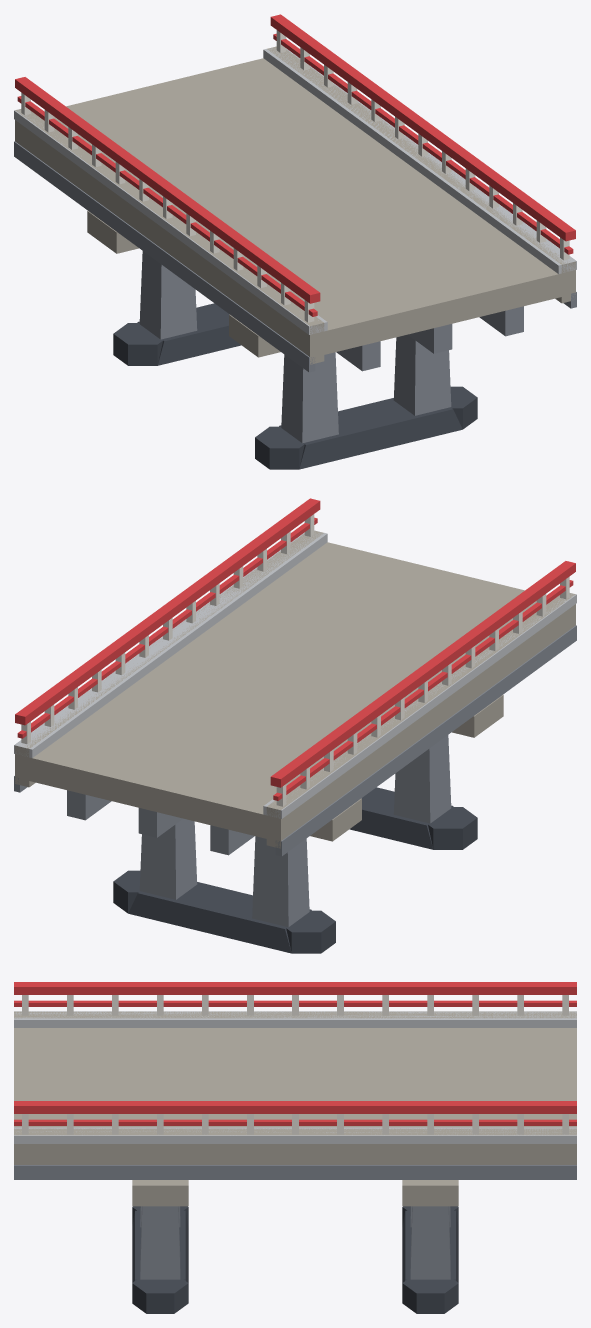
Rendered from bridge.glb.
3 renders of one model, top to bottom at view 1: azimuth 30°, elevation 25°; view 2: azimuth 150°, elevation 25°; view 3: azimuth 270°, elevation 25°, orthographic. The views are drawn at different scales.
Parts seen in each view (by area): view 1: bridge; view 2: bridge; view 3: bridge.
Part boxes in pixels (bbox=[...]): bridge: bbox=[14, 14, 576, 469]; bridge: bbox=[14, 498, 576, 953]; bridge: bbox=[14, 982, 576, 1313].
Size of the model in its own units: 2.62 by 2.17 by 5.
Materials: 1 (1 with a texture image).
